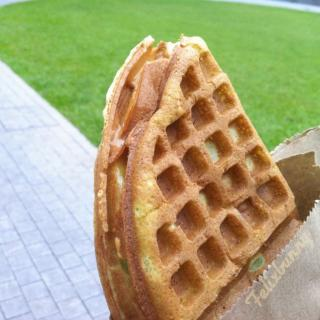Waffle: (94, 34, 302, 320)
